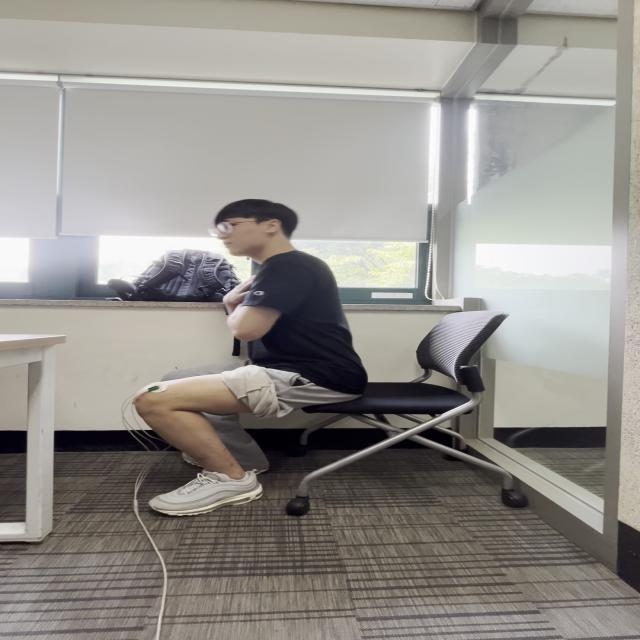squat: (128, 364, 333, 513), (239, 258, 381, 413), (142, 354, 371, 430)
